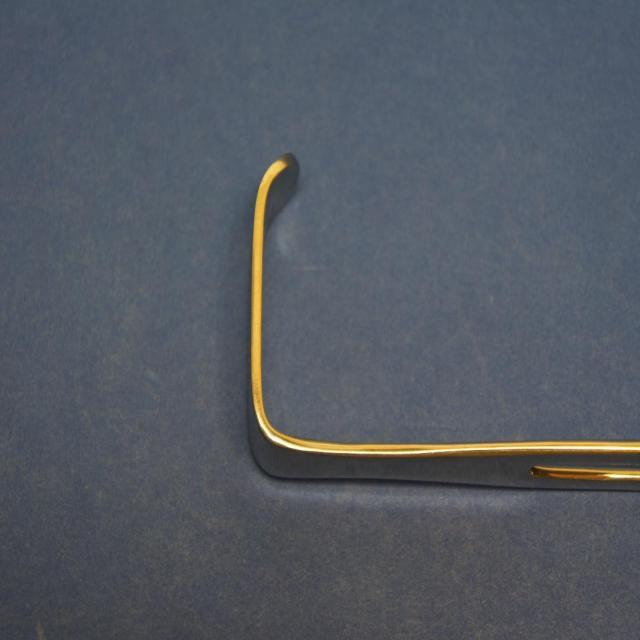Army_navy: (245, 144, 638, 502)
